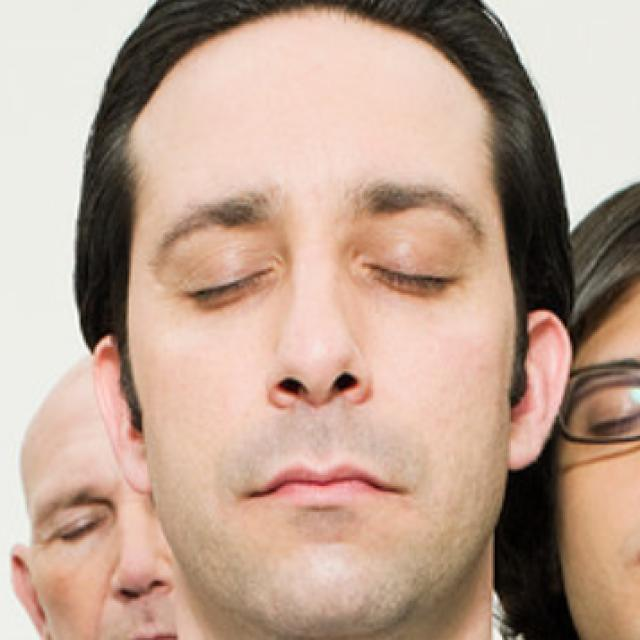close: (331, 176, 495, 319), (149, 184, 300, 322)
